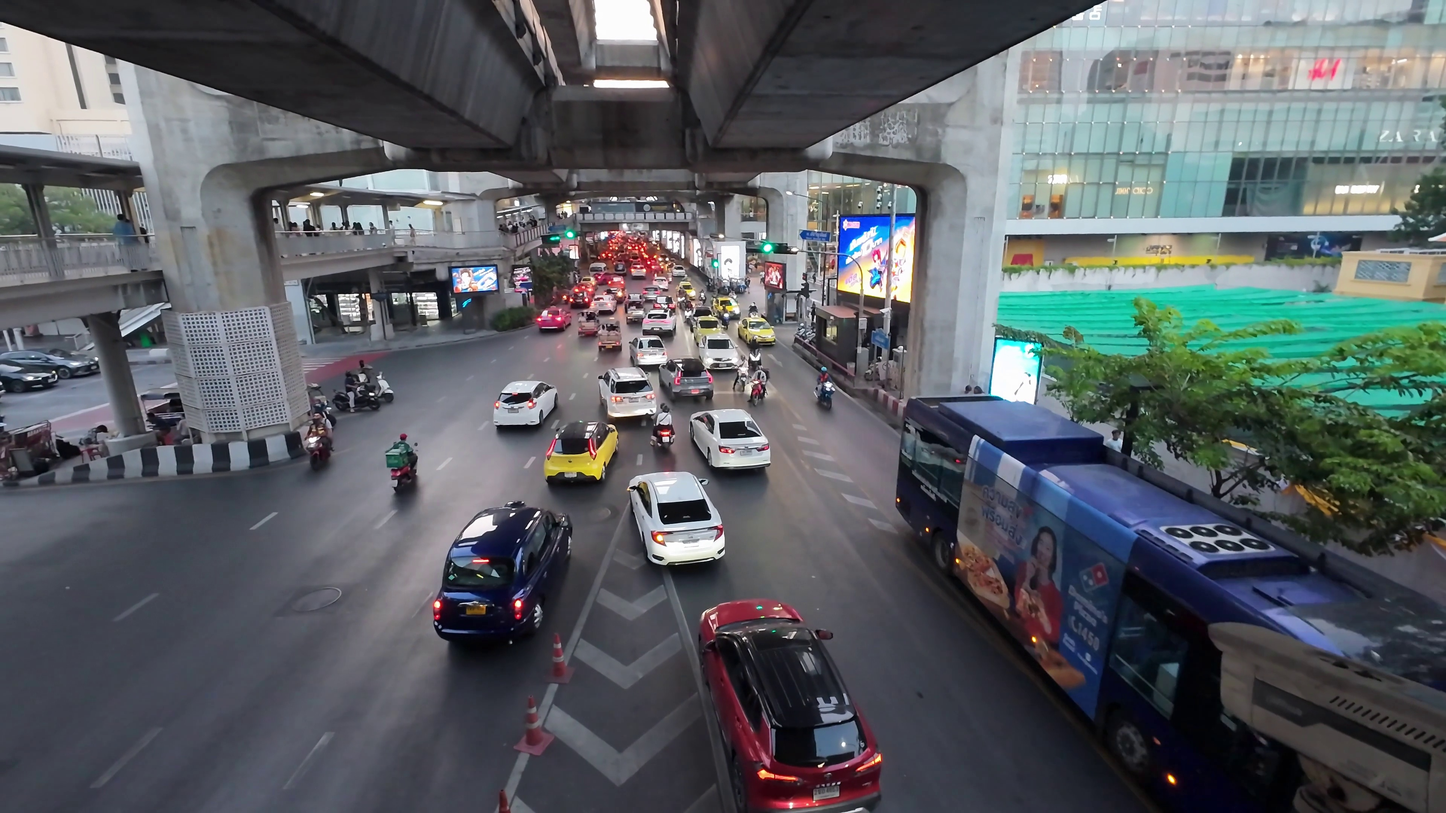license_plate: (1030, 642, 1306, 776), (745, 734, 837, 795), (468, 585, 539, 631), (651, 529, 701, 559), (724, 630, 778, 648), (708, 448, 750, 470), (559, 461, 598, 481), (510, 410, 543, 427), (615, 399, 648, 416), (15, 376, 44, 388), (677, 389, 703, 401), (308, 452, 326, 469), (544, 321, 562, 328)
motorcycle: (299, 405, 335, 472)
no_seatbelt: (975, 453, 1362, 663), (726, 647, 856, 743), (454, 521, 553, 592), (641, 486, 711, 534), (714, 605, 789, 633), (700, 417, 758, 451), (551, 432, 606, 464), (504, 387, 550, 413), (609, 375, 654, 401), (9, 359, 50, 378), (673, 373, 708, 391), (540, 311, 565, 322)
